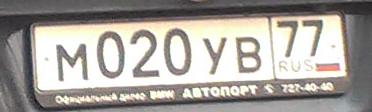character: (129, 26, 161, 80), (94, 29, 126, 80), (53, 41, 90, 84), (164, 25, 194, 77), (233, 33, 264, 74), (202, 34, 229, 77), (276, 18, 299, 61), (302, 17, 326, 58)
